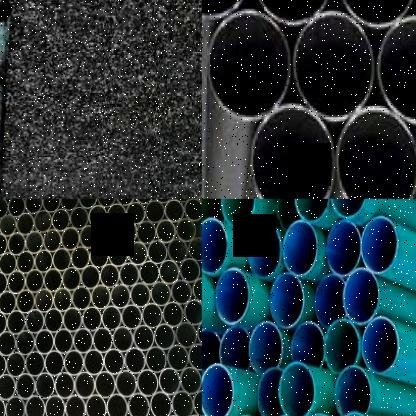pipe: (205, 7, 295, 125), (290, 12, 377, 121), (249, 100, 336, 199), (334, 105, 416, 199), (374, 14, 416, 124), (248, 0, 334, 28), (335, 0, 416, 28), (362, 316, 399, 374), (277, 361, 315, 416), (361, 216, 398, 272), (269, 272, 305, 329), (343, 267, 379, 324), (283, 219, 318, 277), (323, 318, 359, 374), (248, 320, 284, 375), (334, 364, 372, 416), (247, 222, 282, 278), (325, 221, 361, 275), (215, 268, 249, 324), (314, 274, 346, 328), (290, 321, 326, 368), (202, 364, 233, 416), (202, 217, 227, 274), (219, 326, 251, 369), (257, 367, 282, 416), (221, 199, 256, 228), (294, 199, 330, 222), (202, 328, 222, 368), (329, 199, 368, 218), (277, 199, 298, 230), (158, 368, 181, 396), (202, 199, 226, 225), (179, 368, 202, 395), (136, 370, 159, 397), (167, 344, 189, 372), (145, 346, 167, 374), (115, 370, 137, 398), (175, 321, 197, 349), (153, 324, 176, 350), (112, 326, 134, 353), (54, 372, 75, 400), (148, 391, 171, 416), (171, 390, 193, 416), (129, 282, 151, 308), (141, 303, 163, 329), (103, 349, 125, 375), (124, 348, 146, 374), (15, 373, 36, 400), (74, 372, 95, 399), (24, 351, 45, 378), (53, 328, 74, 355), (92, 327, 113, 354), (95, 371, 115, 399), (35, 372, 55, 400), (162, 302, 184, 327), (138, 261, 160, 286), (133, 325, 154, 351), (121, 304, 142, 330), (171, 279, 192, 305), (90, 284, 111, 310), (34, 329, 55, 355), (44, 350, 64, 377), (84, 349, 104, 376), (127, 392, 149, 416), (43, 308, 64, 333), (147, 240, 168, 265), (110, 284, 131, 309), (99, 264, 120, 289), (150, 281, 171, 306), (97, 223, 118, 248), (127, 241, 148, 266), (179, 258, 200, 283), (155, 219, 176, 244), (15, 330, 35, 356), (82, 306, 102, 332), (119, 262, 139, 288), (101, 305, 121, 331), (64, 350, 84, 376), (73, 328, 93, 354), (105, 393, 127, 416), (158, 260, 179, 284), (71, 286, 92, 310), (125, 201, 146, 225), (164, 199, 185, 223), (144, 200, 165, 224), (175, 218, 196, 242), (167, 239, 188, 263), (6, 310, 26, 335), (80, 265, 100, 290), (24, 269, 44, 294), (89, 244, 109, 269), (53, 287, 72, 313), (109, 242, 128, 268), (6, 352, 25, 378), (84, 394, 106, 416), (70, 246, 90, 270), (34, 289, 54, 313), (117, 221, 137, 245), (33, 210, 53, 234), (106, 203, 126, 227), (63, 307, 82, 332), (25, 309, 44, 334), (137, 220, 156, 245), (183, 300, 202, 325), (43, 268, 62, 293), (44, 394, 65, 416), (64, 394, 85, 416), (42, 229, 62, 252), (69, 207, 89, 230), (52, 248, 71, 272), (61, 227, 80, 251), (16, 290, 35, 314), (62, 267, 81, 291), (79, 225, 98, 249), (34, 249, 53, 273), (51, 208, 70, 232), (7, 271, 26, 294), (7, 232, 26, 255), (88, 205, 107, 228), (16, 251, 35, 274), (16, 212, 34, 236), (24, 395, 44, 416), (183, 199, 202, 221), (25, 231, 43, 254), (187, 344, 202, 371), (0, 290, 16, 315), (0, 331, 16, 356), (5, 395, 24, 416), (0, 374, 15, 400), (0, 251, 16, 275), (186, 238, 202, 262), (0, 214, 16, 236), (7, 199, 25, 217), (24, 199, 42, 214), (192, 277, 202, 303), (42, 199, 60, 213), (193, 389, 202, 416), (59, 199, 79, 211), (0, 0, 10, 21), (77, 199, 97, 209), (0, 271, 7, 296), (96, 199, 115, 208), (0, 233, 7, 257), (196, 320, 202, 347), (0, 199, 8, 219), (0, 353, 6, 378), (114, 199, 135, 206), (0, 311, 6, 335), (134, 199, 153, 205), (0, 396, 5, 416), (153, 199, 172, 204)
